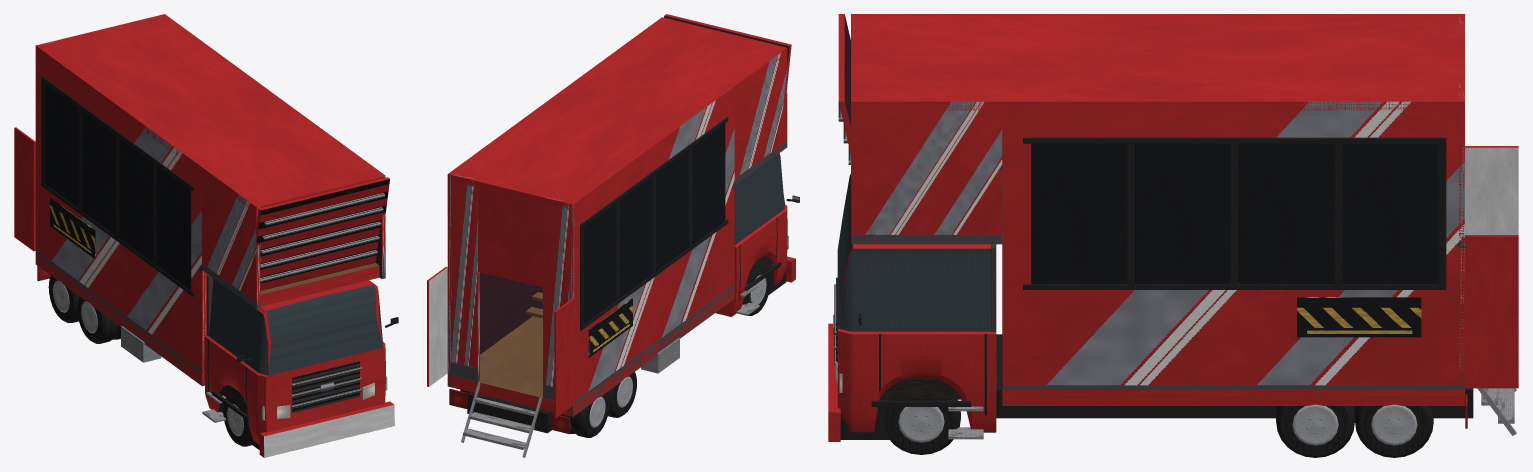
Rendered from ThaiParadeTruck.fbx.
3 views of the same model, side by side, from view 1: azimuth 30°, elevation 25°; view 2: azimuth 150°, elevation 25°; view 3: azimuth 270°, elevation 25° (orthographic). The views are drawn at different scales.
Parts seen in each view (by area): view 1: ThaiParadeTruck, ThaiParadeTruck_Windows, ThaiParadeTruck_Glass, Wheel_RR1, Wheel_RR2, Wheel_FR; view 2: ThaiParadeTruck, ThaiParadeTruck_Windows, ThaiParadeTruck_Glass, Wheel_RR2, Wheel_RR1, Wheel_FR; view 3: ThaiParadeTruck, ThaiParadeTruck_Windows, ThaiParadeTruck_Glass, Wheel_RL1, Wheel_RL2, Wheel_FL.
Boxes of the visible parts, x1,y1,x2,y2 form: ThaiParadeTruck: [14, 14, 398, 457]; ThaiParadeTruck_Windows: [41, 76, 194, 296]; ThaiParadeTruck_Glass: [209, 278, 383, 375]; Wheel_RR1: [77, 296, 120, 343]; Wheel_RR2: [48, 276, 79, 322]; Wheel_FR: [223, 398, 251, 446]; ThaiParadeTruck: [427, 14, 799, 457]; ThaiParadeTruck_Windows: [580, 117, 728, 330]; ThaiParadeTruck_Glass: [735, 153, 784, 244]; Wheel_RR2: [561, 392, 609, 437]; Wheel_RR1: [607, 372, 636, 417]; Wheel_FR: [742, 268, 770, 315]; ThaiParadeTruck: [828, 14, 1518, 441]; ThaiParadeTruck_Windows: [1023, 137, 1446, 289]; ThaiParadeTruck_Glass: [837, 174, 990, 331]; Wheel_RL1: [1276, 404, 1354, 457]; Wheel_RL2: [1355, 404, 1433, 457]; Wheel_FL: [885, 399, 960, 454].
Size of the model in its own units: 349 by 535 by 932.
Materials: 1 (1 with a texture image).
